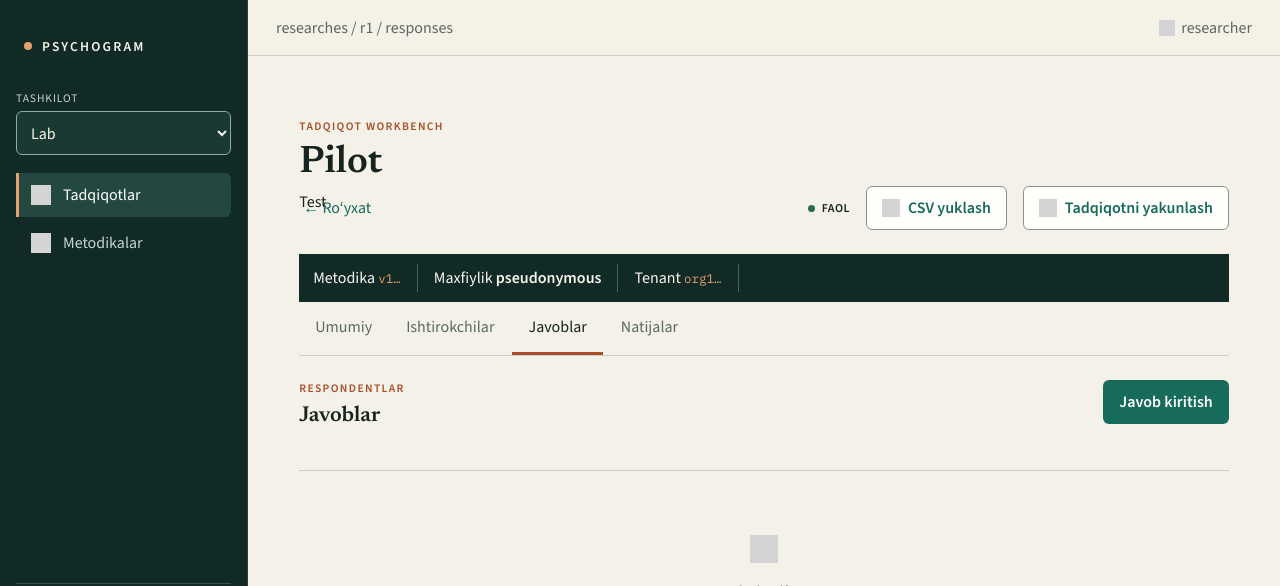
research lifecycle › closes a research after confirmation and stops new answers
This screenshot has width=1280, height=586.
Expected: the link "Javob kiritish" is shown, 1103,380 -> 1229,424
Click the button "Tadqiqotni yakunlash" at (1126, 208), box 1023,186 -> 1229,230
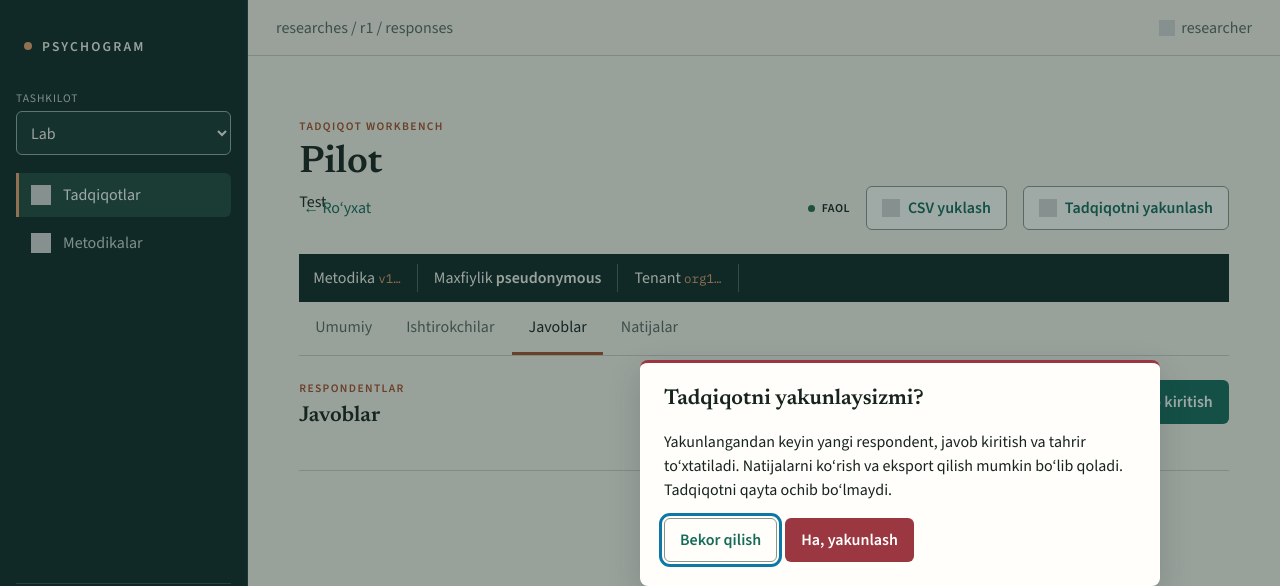
Click the button "Ha, yakunlash" at (850, 540), box 785,518 -> 914,562
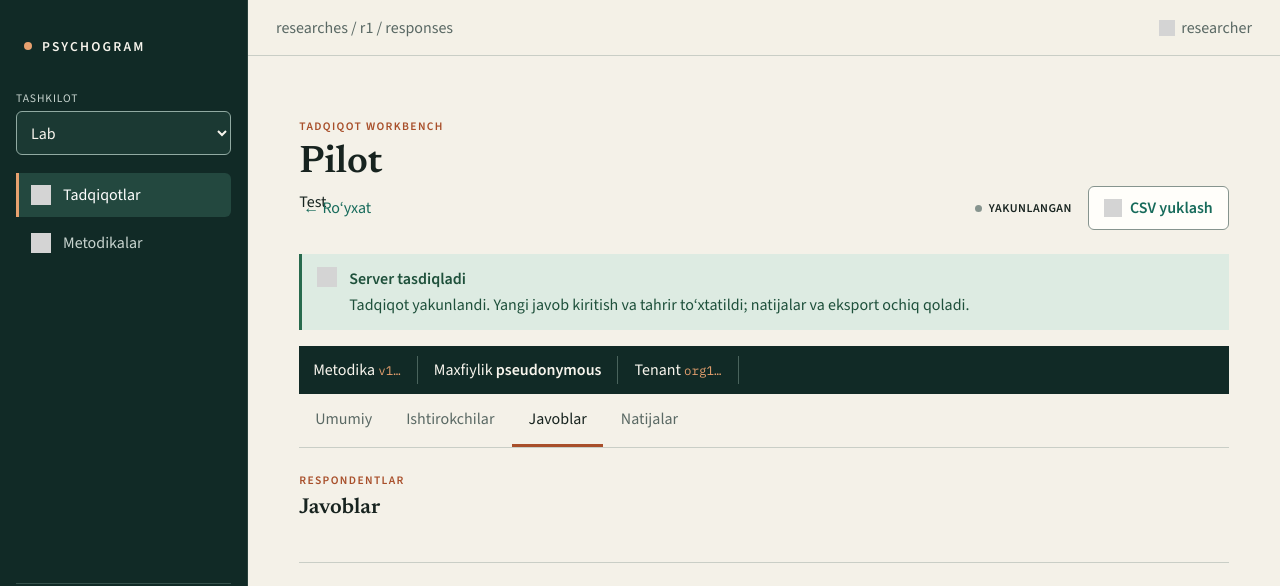
Now the text "Tadqiqot yakunlandi" is shown, box 349,294 -> 970,315
Now the text "Yakunlangan" is shown, box 975,199 -> 1072,217
Now the button "Tadqiqotni yakunlash" is gone
